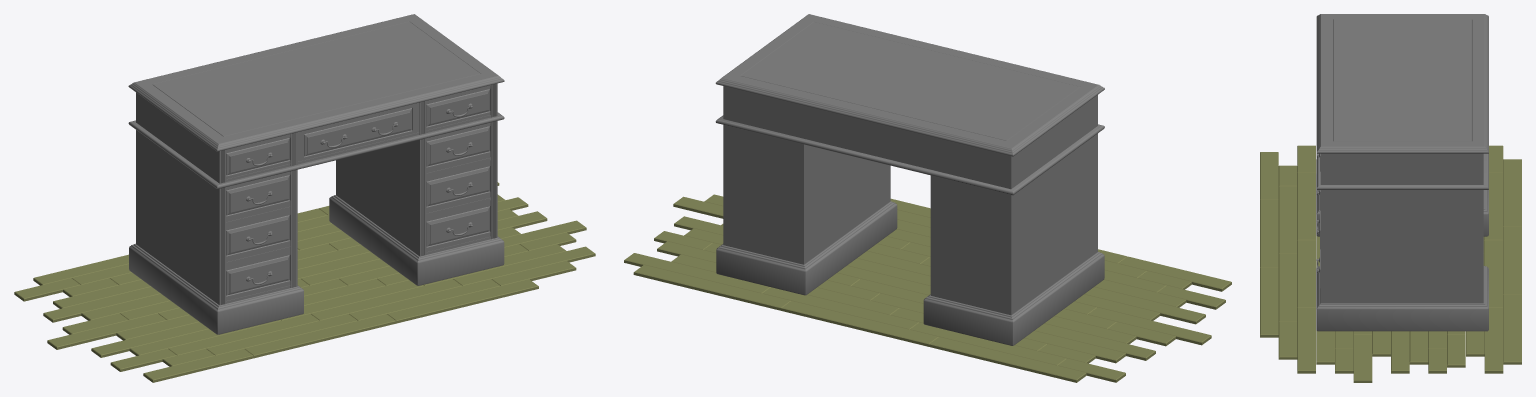
File: table.fbx
3 renders of one model, left to right at view 1: azimuth 30°, elevation 25°; view 2: azimuth 150°, elevation 25°; view 3: azimuth 270°, elevation 25°, orthographic. The views are drawn at different scales.
Visible parts, largest first — view 1: table_002, floor; view 2: table_002, floor; view 3: table_002, floor.
Boxes of the visible parts, x1,y1,x2,y2 form: table_002: (128, 14, 504, 334); floor: (14, 182, 595, 382); table_002: (715, 14, 1104, 345); floor: (624, 194, 1231, 382); table_002: (1316, 14, 1488, 331); floor: (1260, 145, 1521, 382).
Bounding box in the file's own units: 2189 × 774 × 983.
